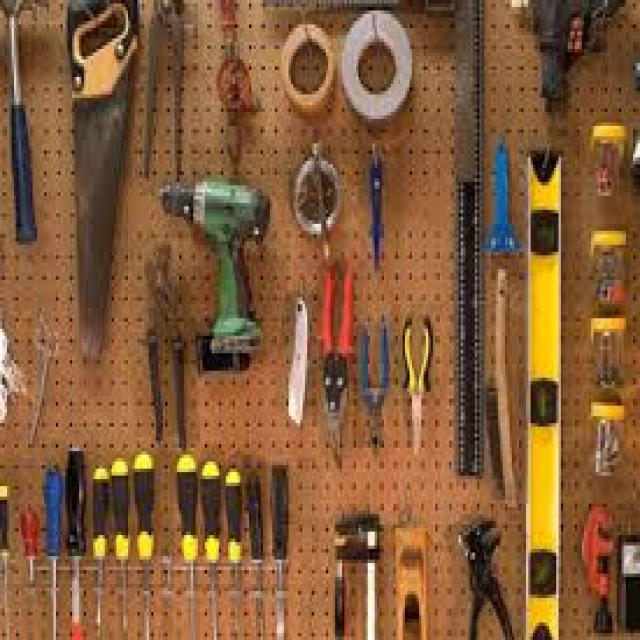Drill: (154, 173, 268, 372)
Pliers: (316, 258, 360, 464), (400, 313, 436, 460), (358, 322, 396, 459)
Screwdriver: (64, 442, 89, 640), (175, 450, 201, 640), (133, 448, 158, 640), (39, 461, 65, 640), (199, 454, 224, 640), (110, 454, 134, 640), (88, 464, 112, 640), (225, 464, 246, 640), (246, 468, 265, 640), (17, 498, 41, 592)
